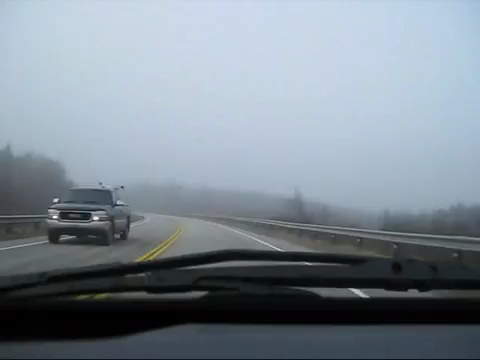car: (45, 184, 131, 245)
